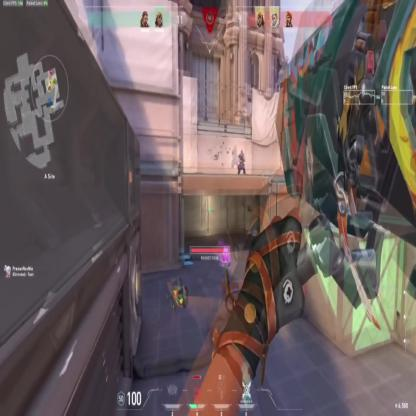enemy: (237, 149, 246, 175)
enemy_head: (240, 150, 243, 155)
